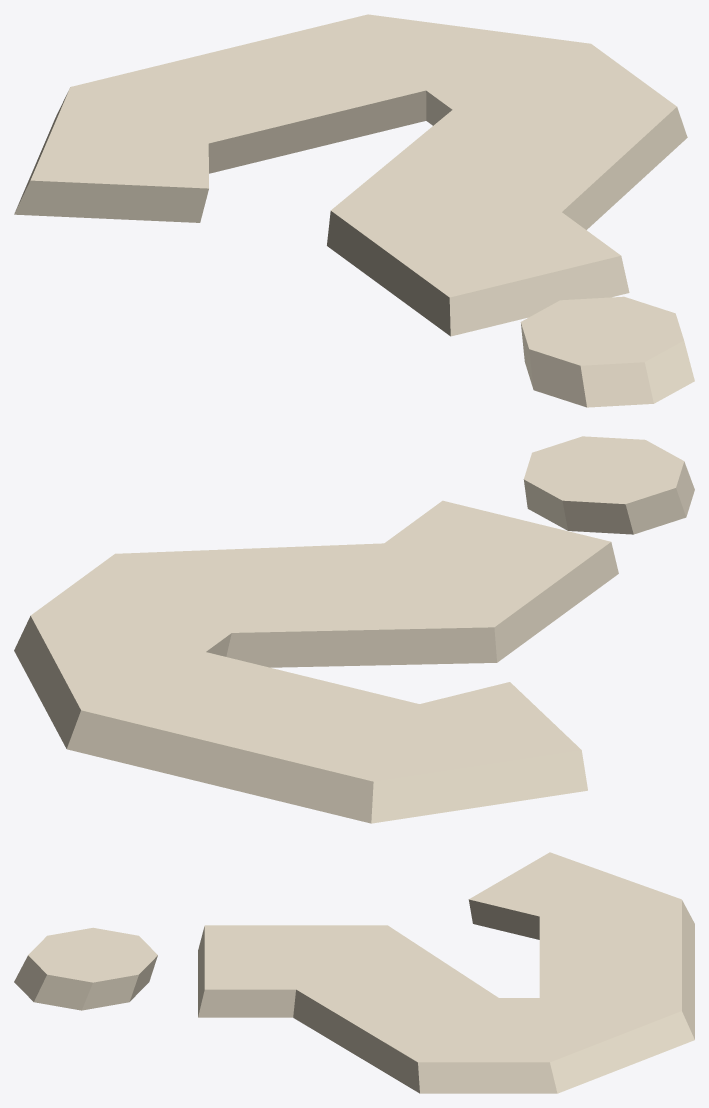
File: SunnyLoop_Space_Symbol_Event_v1.fbx
The picture shows the model from 3 angles, top to bottom: view 1: azimuth 30°, elevation 25°; view 2: azimuth 150°, elevation 25°; view 3: azimuth 270°, elevation 25°; orthographic projection. The views are drawn at different scales.
Visible parts, largest first — view 1: SunnyLoop_Space_Symbol_Event_v1; view 2: SunnyLoop_Space_Symbol_Event_v1; view 3: SunnyLoop_Space_Symbol_Event_v1.
Boxes of the visible parts, x1,y1,x2,y2 form: SunnyLoop_Space_Symbol_Event_v1: [14, 14, 694, 407]; SunnyLoop_Space_Symbol_Event_v1: [14, 436, 694, 823]; SunnyLoop_Space_Symbol_Event_v1: [14, 852, 694, 1093].
Size of the model in its own units: 0.686 by 0.0392 by 0.9016.
